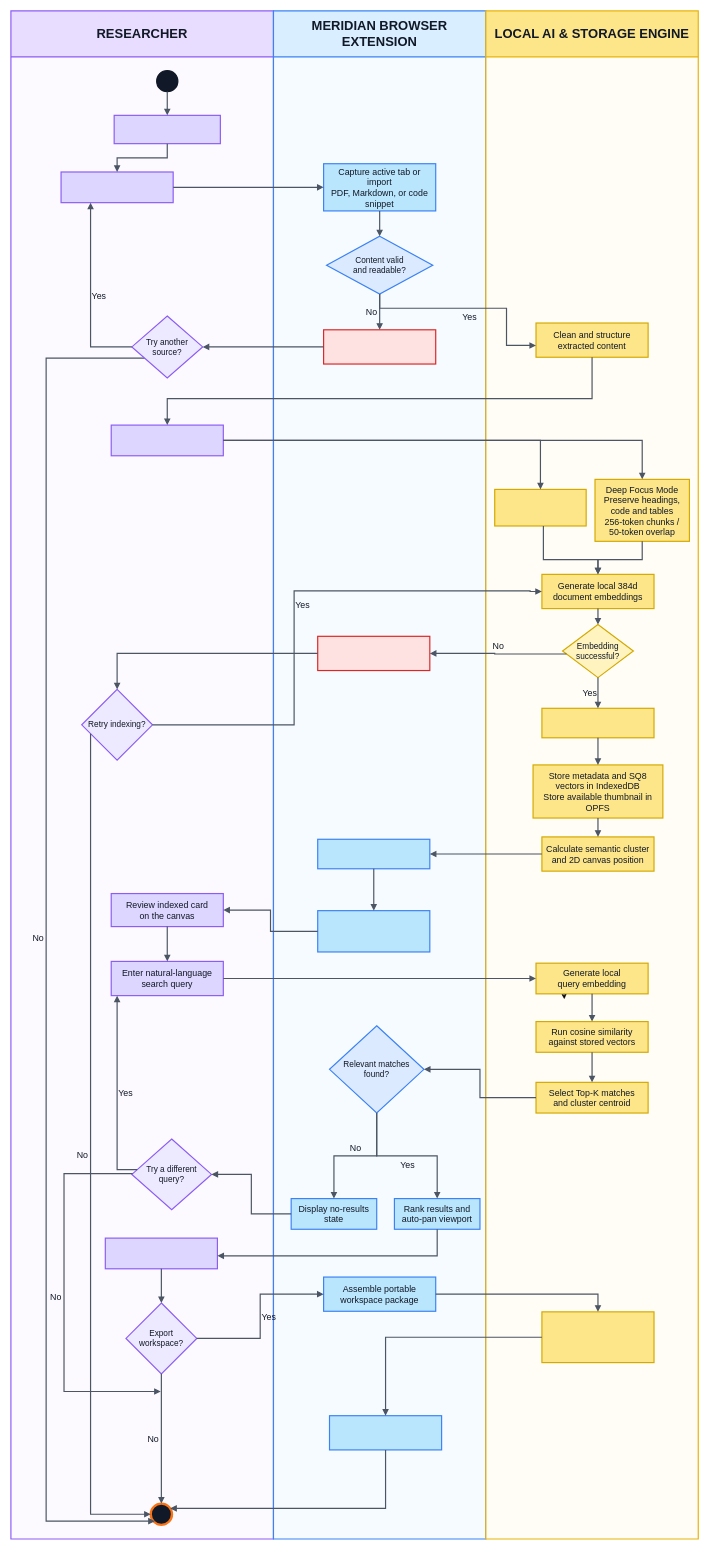
This 709x1549 diagram has some shape labels left out. The shapes that lost their labels are listed below. From the top down, each one's centre as x and y in pixels, then its label:
the point at 167,129: Open Meridian
the point at 116,187: Select artifact source
the point at 379,346: Display source or permission error
the point at 167,440: Choose indexing mode
the point at 540,507: Page Mode Create lightweight blocks
the point at 373,653: Mark artifact as failed and display error
the point at 597,722: SQ8-quantize vectors
the point at 373,853: Display indexing status
the point at 373,931: Render artifact card, cluster, and canvas position
the point at 161,1253: Inspect focused artifact
the point at 597,1337: Read workspace metadata, coordinates, vectors and snapshot
the point at 385,1432: Save standalone HTML or JSON file
